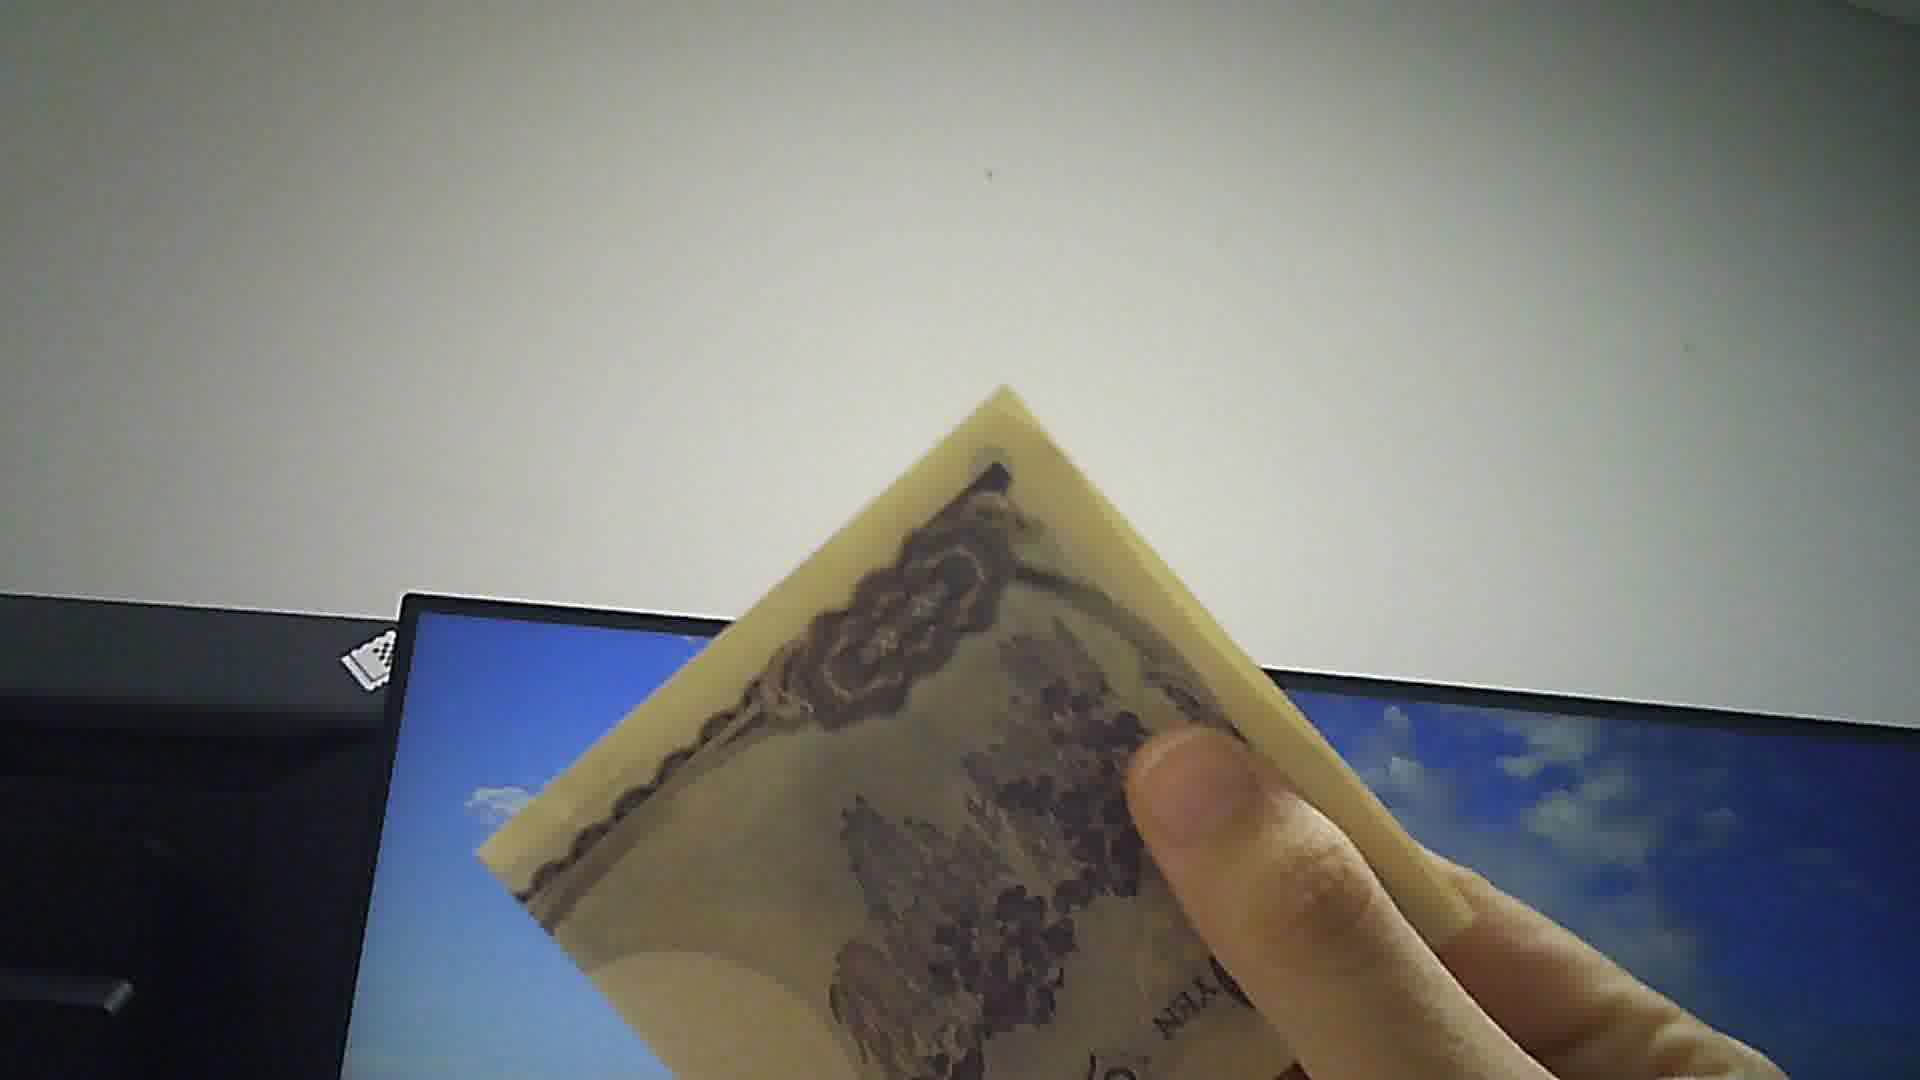5,000 Yen: (496, 364, 1476, 1079)
